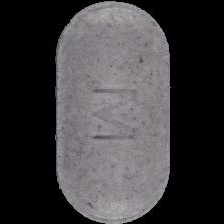53808-0607: (0, 0, 224, 224)
